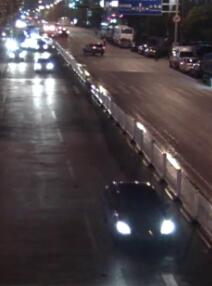bus: (111, 25, 137, 47)
car: (99, 176, 179, 251), (79, 39, 106, 58), (31, 56, 56, 75), (170, 45, 190, 67), (5, 45, 29, 63), (181, 55, 201, 74), (32, 38, 50, 53), (55, 25, 72, 37)
